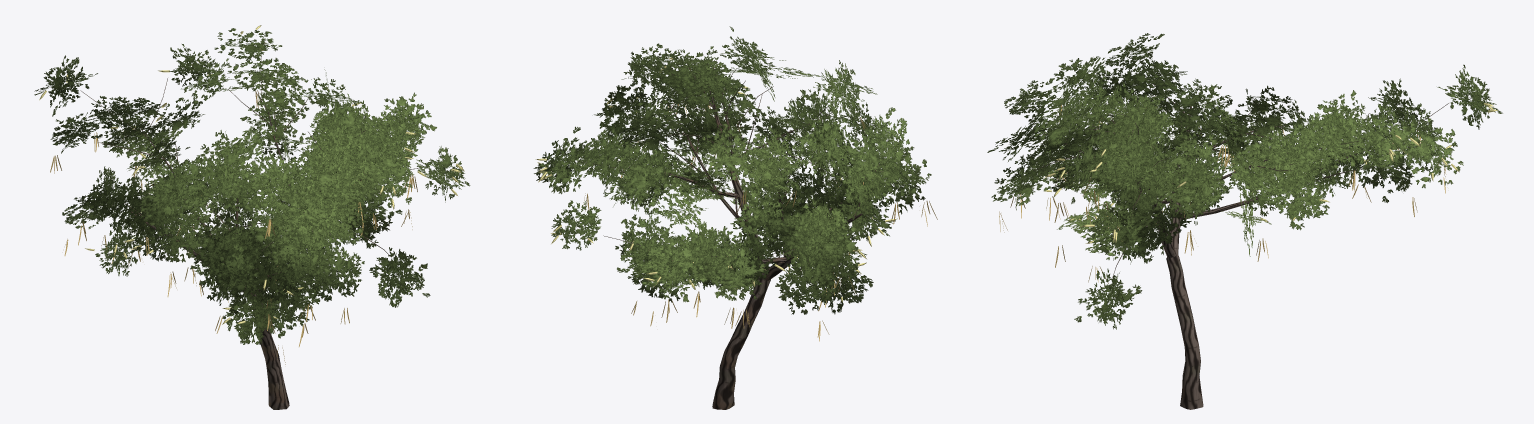
File: young-a.lod0.glb
3 renders of one model, left to right at view 1: azimuth 30°, elevation 25°; view 2: azimuth 150°, elevation 25°; view 3: azimuth 270°, elevation 25°, orthographic. The views are drawn at different scales.
Parts seen in each view (by area): view 1: foliage, bark, fruit, flowers; view 2: foliage, bark, fruit, flowers; view 3: foliage, bark, fruit, flowers.
Part boxes in pixels (x1,y1,x2,y2): foliage: [34, 28, 470, 344]; bark: [80, 56, 419, 409]; fruit: [50, 90, 417, 364]; flowers: [39, 25, 464, 324]; foliage: [533, 26, 931, 314]; bark: [578, 60, 883, 409]; fruit: [583, 103, 937, 341]; flowers: [535, 57, 897, 301]; foliage: [987, 33, 1502, 329]; bark: [1034, 76, 1448, 409]; fruit: [999, 95, 1446, 283]; flowers: [1044, 103, 1497, 243].
Bounding box in the file's own units: 4.19 × 3.8 × 5.46.
Materials: 5 (2 with a texture image).
